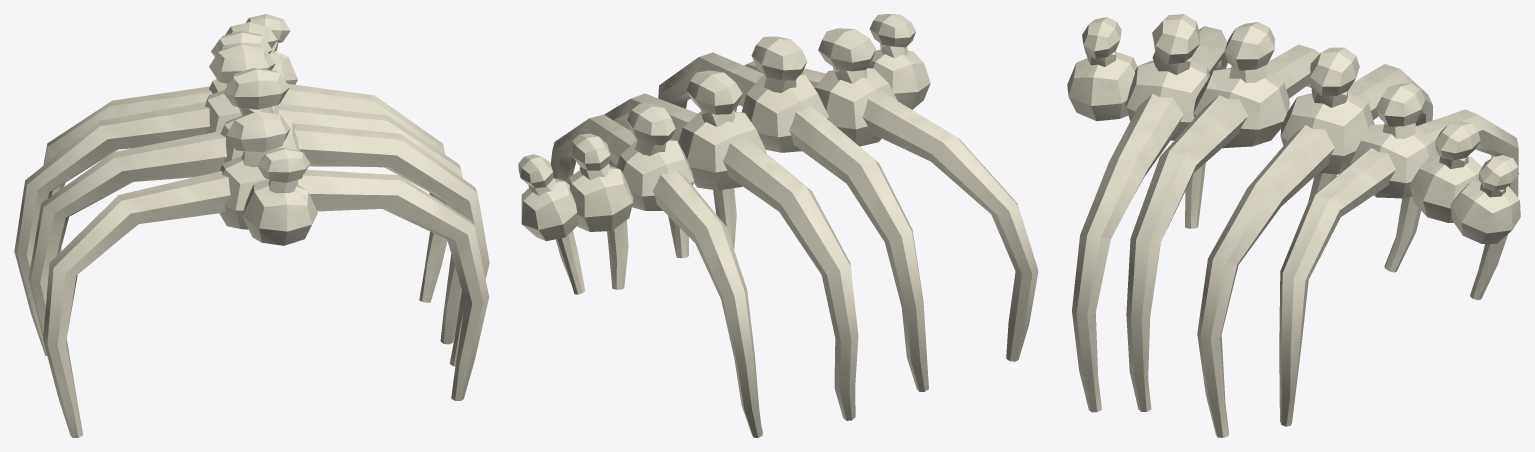
The model's file is DragonRibs.fbx.
3 renders of one model, left to right at view 1: azimuth 30°, elevation 25°; view 2: azimuth 150°, elevation 25°; view 3: azimuth 270°, elevation 25°, orthographic. The views are drawn at different scales.
Parts seen in each view (by area): view 1: Ribcage; view 2: Ribcage; view 3: Ribcage.
Boxes of the visible parts, left/top/right/bottom form: Ribcage: left=14, top=14, right=489, bottom=437; Ribcage: left=518, top=14, right=1038, bottom=437; Ribcage: left=1067, top=14, right=1520, bottom=437.
Bounding box in the file's own units: 3.38 × 2.18 × 2.81.
1 material, 1 textured.
